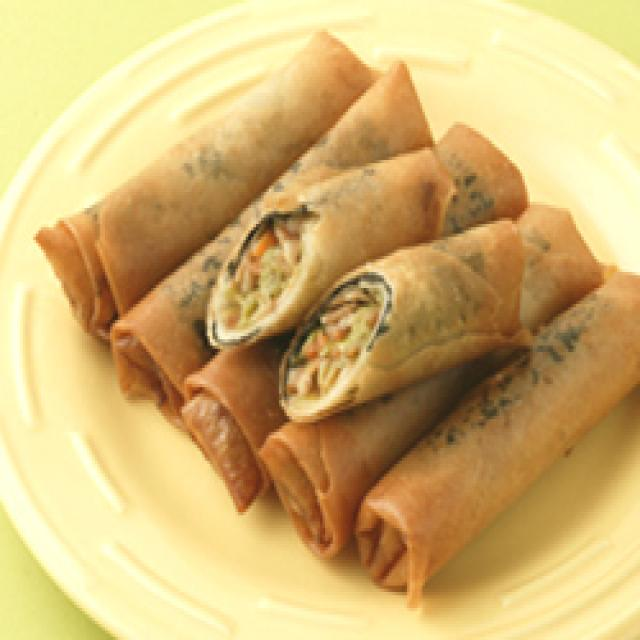鸡蛋料理: (20, 16, 640, 608)
